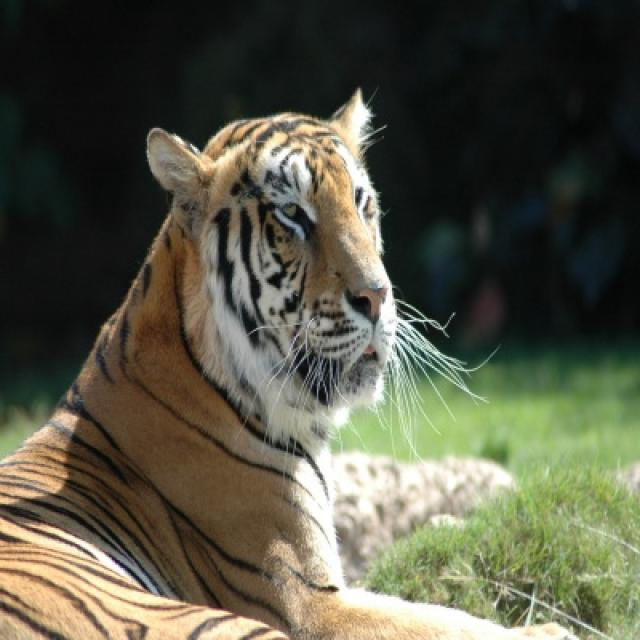Tiger: (0, 85, 577, 638)
